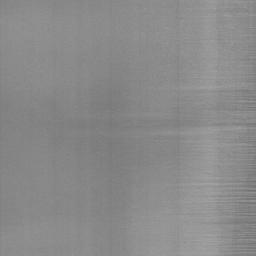Waist folding: (157, 85, 256, 166), (178, 176, 256, 256), (180, 2, 256, 62)
